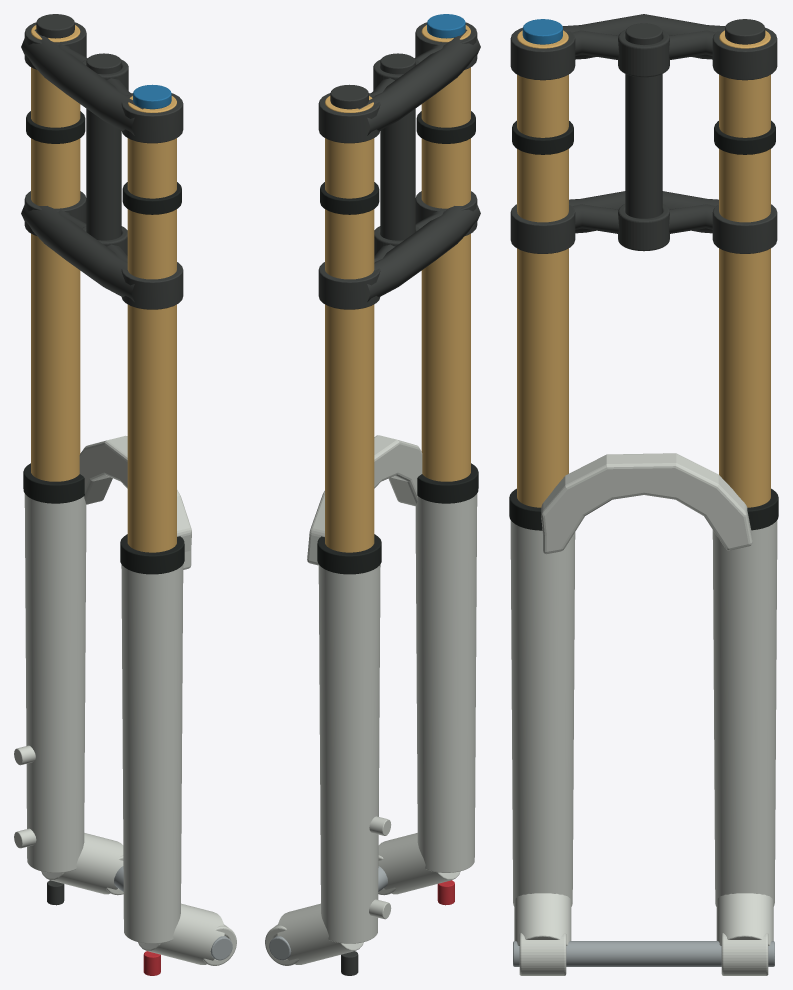
File: fox-40-factory-my27--15b9b60a.glb
The picture shows the model from 3 angles, left to right: view 1: azimuth 30°, elevation 25°; view 2: azimuth 150°, elevation 25°; view 3: azimuth 270°, elevation 25°; orthographic projection. The views are drawn at different scales.
Parts seen in each view (by area): view 1: fox-40-factory-my27--15b9b60a__frame, fox-40-factory-my27--15b9b60a__stanchions, fox-40-factory-my27--15b9b60a__link, fox-40-factory-my27--15b9b60a__protection, fox-40-factory-my27--15b9b60a__adjuster, fox-40-factory-my27--15b9b60a__bolts; view 2: fox-40-factory-my27--15b9b60a__frame, fox-40-factory-my27--15b9b60a__stanchions, fox-40-factory-my27--15b9b60a__link, fox-40-factory-my27--15b9b60a__protection, fox-40-factory-my27--15b9b60a__adjuster, fox-40-factory-my27--15b9b60a__bolts; view 3: fox-40-factory-my27--15b9b60a__frame, fox-40-factory-my27--15b9b60a__stanchions, fox-40-factory-my27--15b9b60a__link, fox-40-factory-my27--15b9b60a__bolts, fox-40-factory-my27--15b9b60a__protection, fox-40-factory-my27--15b9b60a__adjuster.
Boxes of the visible parts, x1,y1,x2,y2 form: fox-40-factory-my27--15b9b60a__frame: [14, 435, 236, 965]; fox-40-factory-my27--15b9b60a__stanchions: [31, 25, 176, 552]; fox-40-factory-my27--15b9b60a__link: [21, 14, 183, 905]; fox-40-factory-my27--15b9b60a__protection: [23, 111, 184, 574]; fox-40-factory-my27--15b9b60a__adjuster: [133, 84, 171, 109]; fox-40-factory-my27--15b9b60a__bolts: [114, 866, 232, 960]; fox-40-factory-my27--15b9b60a__frame: [265, 435, 477, 965]; fox-40-factory-my27--15b9b60a__stanchions: [325, 25, 470, 552]; fox-40-factory-my27--15b9b60a__link: [318, 22, 480, 975]; fox-40-factory-my27--15b9b60a__protection: [317, 111, 478, 574]; fox-40-factory-my27--15b9b60a__adjuster: [427, 14, 465, 38]; fox-40-factory-my27--15b9b60a__bolts: [269, 866, 387, 960]; fox-40-factory-my27--15b9b60a__frame: [510, 453, 777, 975]; fox-40-factory-my27--15b9b60a__stanchions: [517, 30, 770, 507]; fox-40-factory-my27--15b9b60a__link: [510, 14, 777, 253]; fox-40-factory-my27--15b9b60a__bolts: [513, 941, 774, 966]; fox-40-factory-my27--15b9b60a__protection: [509, 120, 778, 530]; fox-40-factory-my27--15b9b60a__adjuster: [522, 19, 562, 44].
Bounding box in the file's own units: 0.108 × 0.7845 × 0.208.
